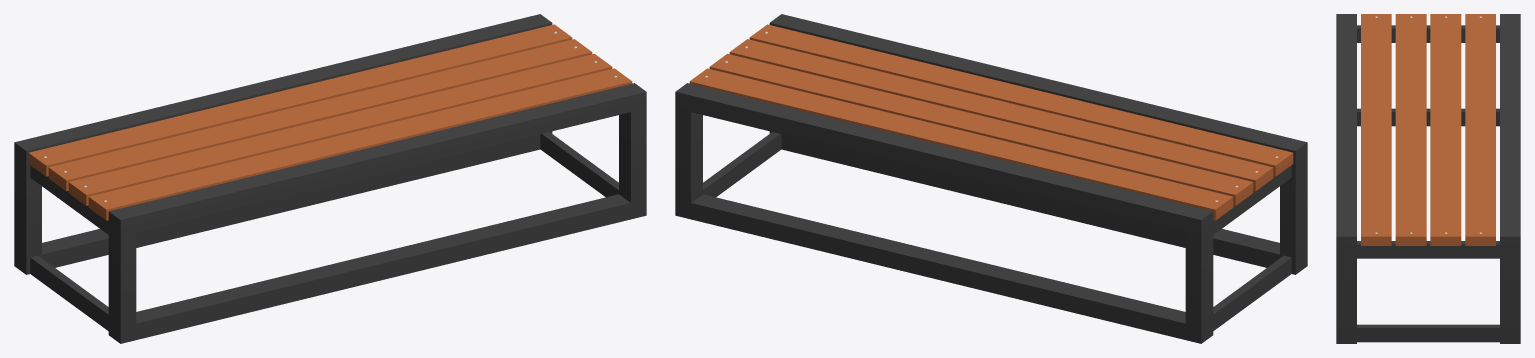
Rendered from public_bench_01.glb.
The picture shows the model from 3 angles, left to right: view 1: azimuth 30°, elevation 25°; view 2: azimuth 150°, elevation 25°; view 3: azimuth 270°, elevation 25°; orthographic projection. The views are drawn at different scales.
Parts seen in each view (by area): view 1: public_bench_01; view 2: public_bench_01; view 3: public_bench_01.
Part boxes in pixels (box(x1,y1,x2,y2)): public_bench_01: box(14, 14, 646, 343); public_bench_01: box(675, 14, 1307, 343); public_bench_01: box(1336, 14, 1520, 343).
Bounding box in the file's own units: 2 × 0.4533 × 0.7.
2 materials, 2 textured.
